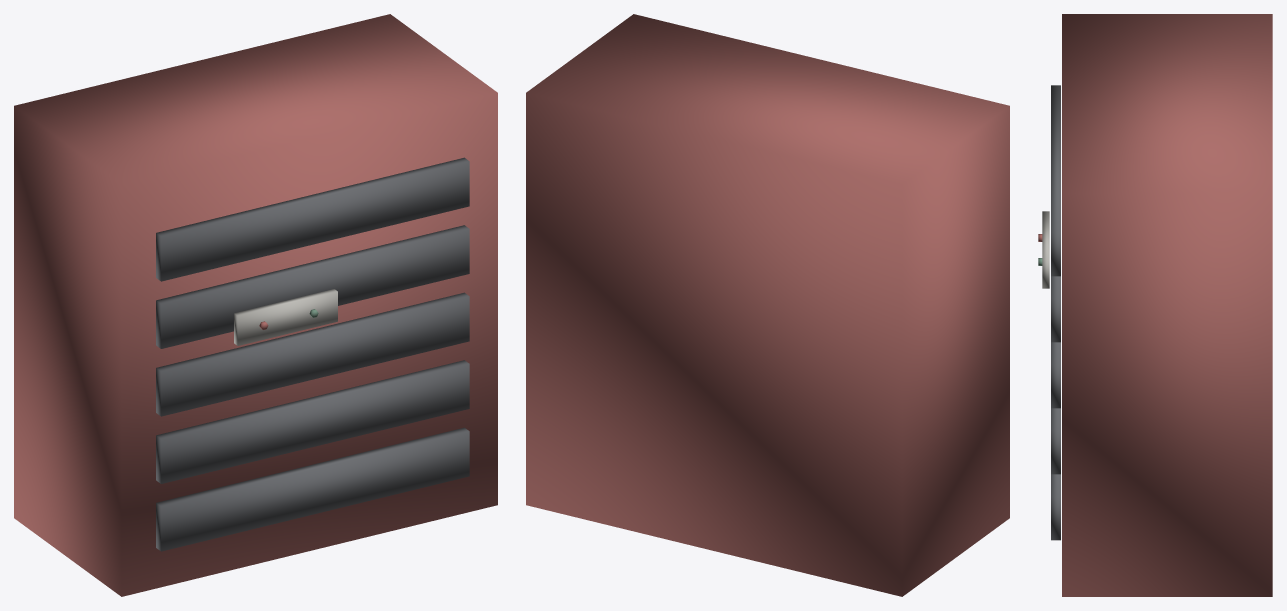
Rendered from tool_cabinet.glb.
3 renders of one model, left to right at view 1: azimuth 30°, elevation 25°; view 2: azimuth 150°, elevation 25°; view 3: azimuth 270°, elevation 25°, orthographic. The views are drawn at different scales.
Visible parts, largest first — view 1: world; view 2: world; view 3: world.
Boxes of the visible parts, <box> form: world: <box>14,14,497,596</box>; world: <box>526,14,1009,596</box>; world: <box>1038,14,1272,596</box>.
Bounding box in the file's own units: 1.05 × 1.1 × 0.5785.
